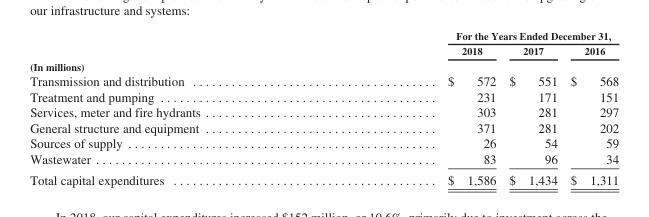table: (29, 29, 618, 186)
table column: (29, 29, 323, 186), (323, 29, 502, 186), (502, 29, 563, 186), (563, 29, 618, 186)
table column header: (29, 29, 618, 73)
table row: (29, 43, 618, 73), (29, 150, 618, 168), (29, 168, 618, 186), (29, 88, 618, 104), (29, 119, 618, 135), (29, 73, 618, 88), (29, 104, 618, 119), (29, 135, 618, 150), (29, 29, 618, 43)
table spanning cell: (29, 29, 323, 73), (323, 29, 618, 43)
